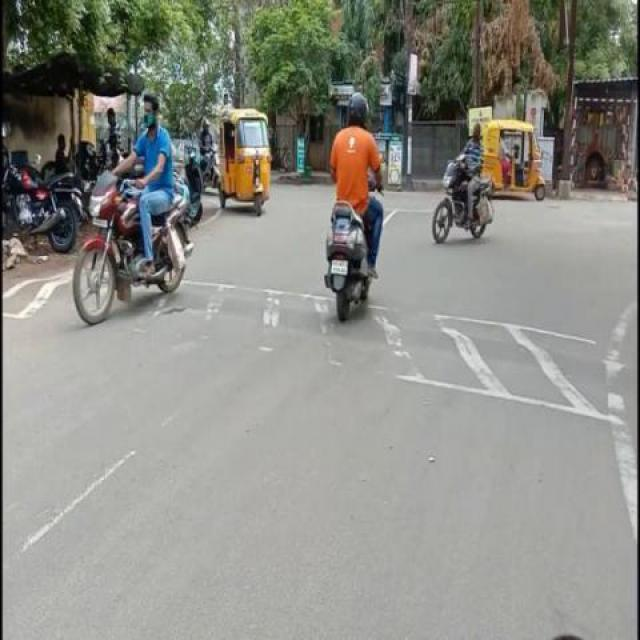Pothole: (160, 304, 188, 318)
Speed Bump: (348, 316, 638, 399), (175, 290, 333, 334), (2, 278, 73, 305)
